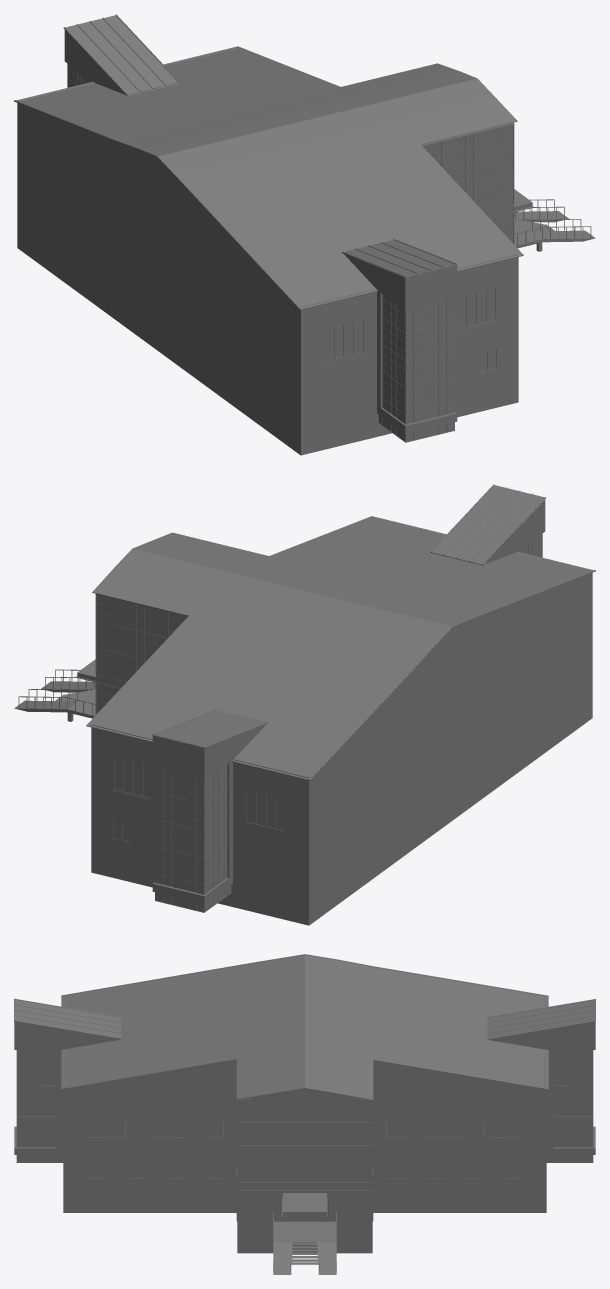
Rendered from ResearchBuildingSmall.fbx.
3 views of the same model, one above another, from view 1: azimuth 30°, elevation 25°; view 2: azimuth 150°, elevation 25°; view 3: azimuth 270°, elevation 25° (orthographic). The views are drawn at different scales.
Parts seen in each view (by area): view 1: Wall, Roof, Glass; view 2: Wall, Roof, Glass; view 3: Wall, Roof, Glass.
Boxes of the visible parts, <box> form: Wall: <box>17,30,595,455</box>; Roof: <box>14,14,523,310</box>; Glass: <box>68,64,513,441</box>; Wall: <box>14,499,592,925</box>; Roof: <box>86,484,595,780</box>; Glass: <box>96,534,541,911</box>; Wall: <box>14,996,595,1274</box>; Roof: <box>14,954,595,1100</box>; Glass: <box>17,1050,592,1220</box>.
Size of the model in its own units: 91.97 by 41.03 by 129.
